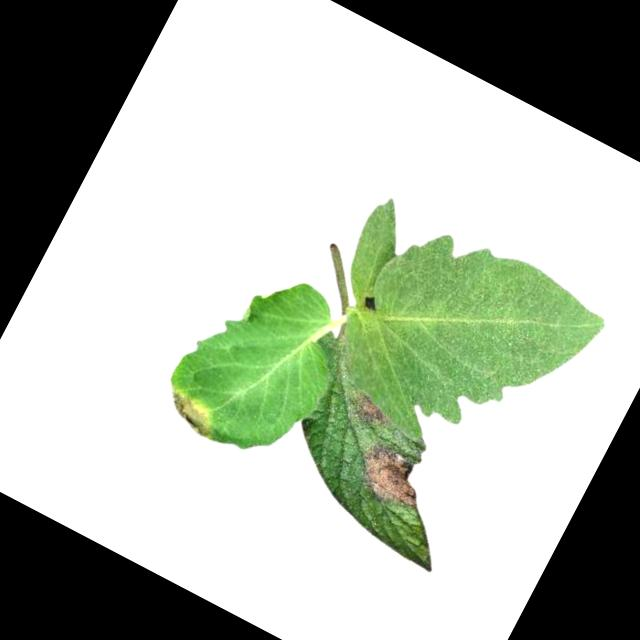Late_blight: (347, 434, 437, 518), (156, 384, 224, 442), (347, 389, 396, 433)
healthy: (306, 197, 615, 494)
